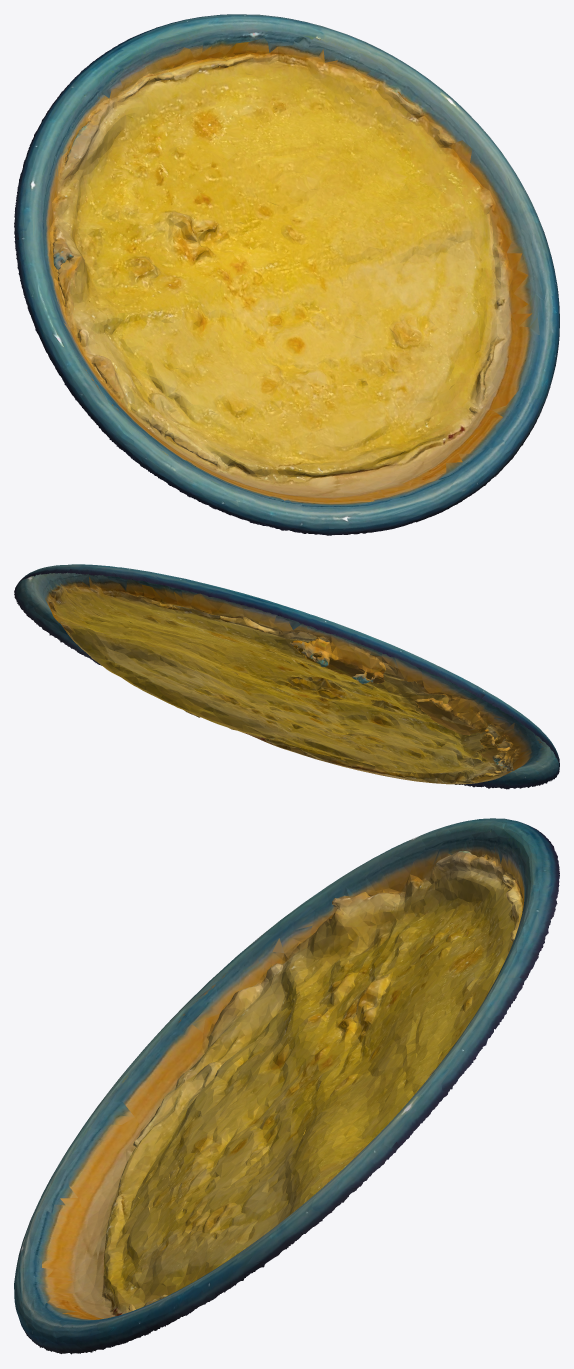
Rendered from Crepe_neutral.fbx.
3 views of the same model, one above another, from view 1: azimuth 30°, elevation 25°; view 2: azimuth 150°, elevation 25°; view 3: azimuth 270°, elevation 25° (orthographic). The views are drawn at different scales.
Parts seen in each view (by area): view 1: Crepe neutral_tex_high; view 2: Crepe neutral_tex_high; view 3: Crepe neutral_tex_high.
Boxes of the visible parts, x1,y1,x2,y2 form: Crepe neutral_tex_high: [14, 14, 559, 535]; Crepe neutral_tex_high: [14, 564, 559, 789]; Crepe neutral_tex_high: [14, 818, 559, 1354].
Size of the model in its own units: 19.82 by 13.19 by 15.03.
